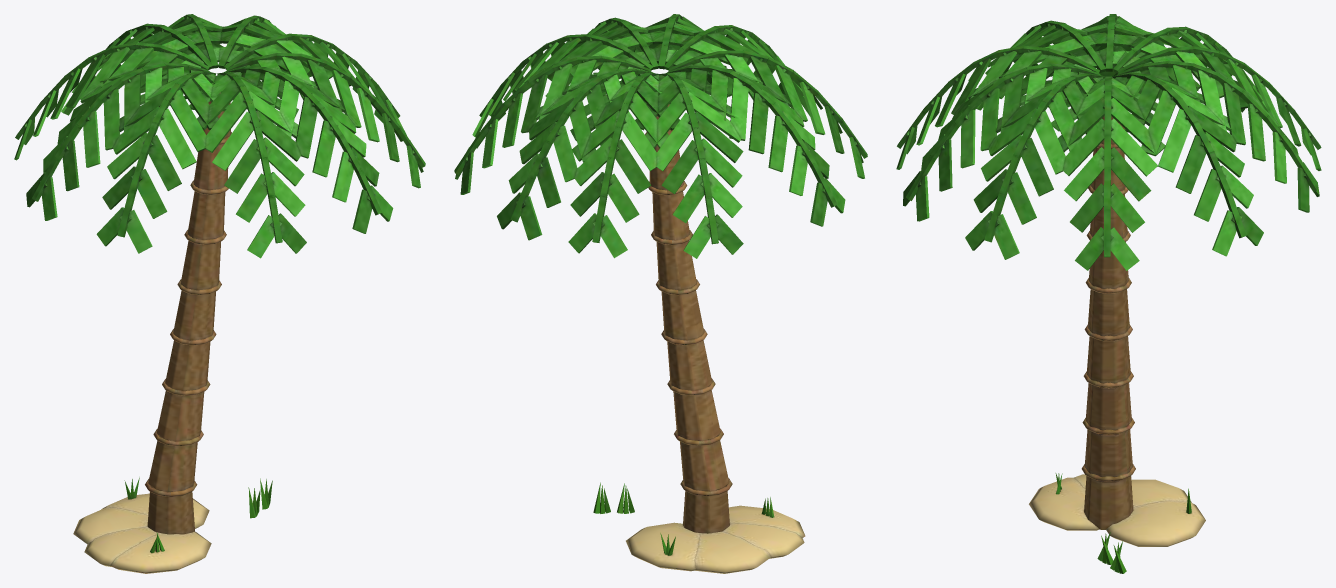
Rendered from coconut_palm.glb.
3 renders of one model, left to right at view 1: azimuth 30°, elevation 25°; view 2: azimuth 150°, elevation 25°; view 3: azimuth 270°, elevation 25°, orthographic. The views are drawn at different scales.
Visible parts, largest first — view 1: crown, coconut_palm; view 2: crown, coconut_palm; view 3: crown, coconut_palm.
Part boxes in pixels (x1,y1,x2,y2): crown: [14, 14, 425, 534]; coconut_palm: [73, 477, 272, 573]; crown: [454, 14, 867, 533]; coconut_palm: [593, 482, 805, 573]; crown: [896, 14, 1321, 529]; coconut_palm: [1029, 473, 1205, 573].
Size of the model in its own units: 1.17 by 1.49 by 1.15.
1 material, 1 textured.
